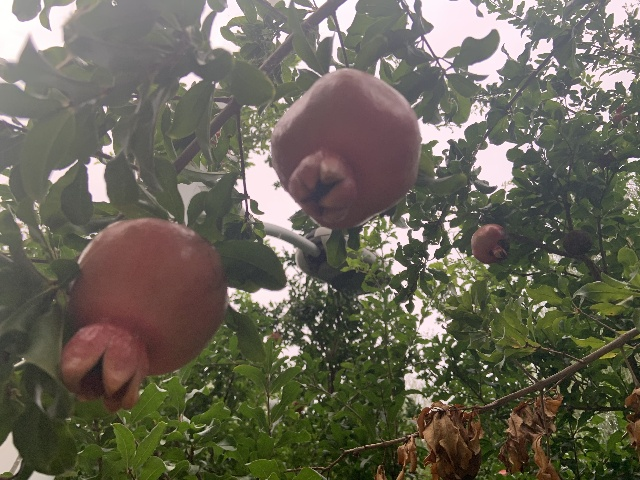mid-growth: (610, 102, 626, 122)
ripe: (60, 217, 228, 412), (270, 68, 421, 229), (471, 223, 507, 263)
